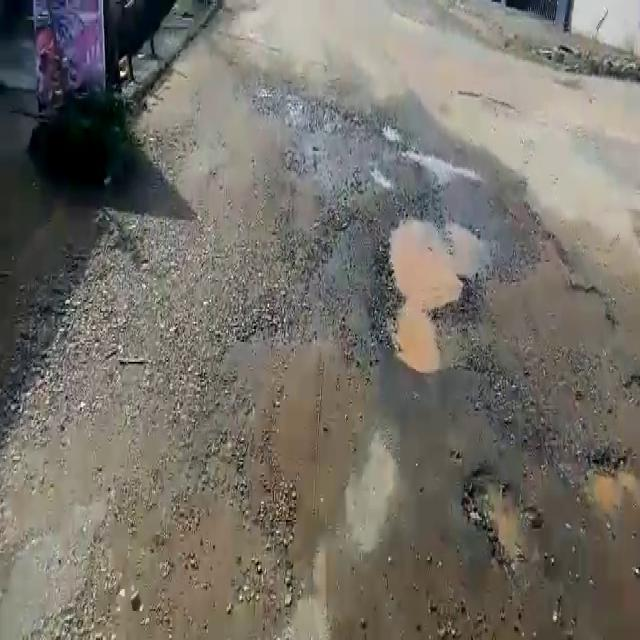pothole: (387, 207, 493, 370), (465, 462, 542, 586)
